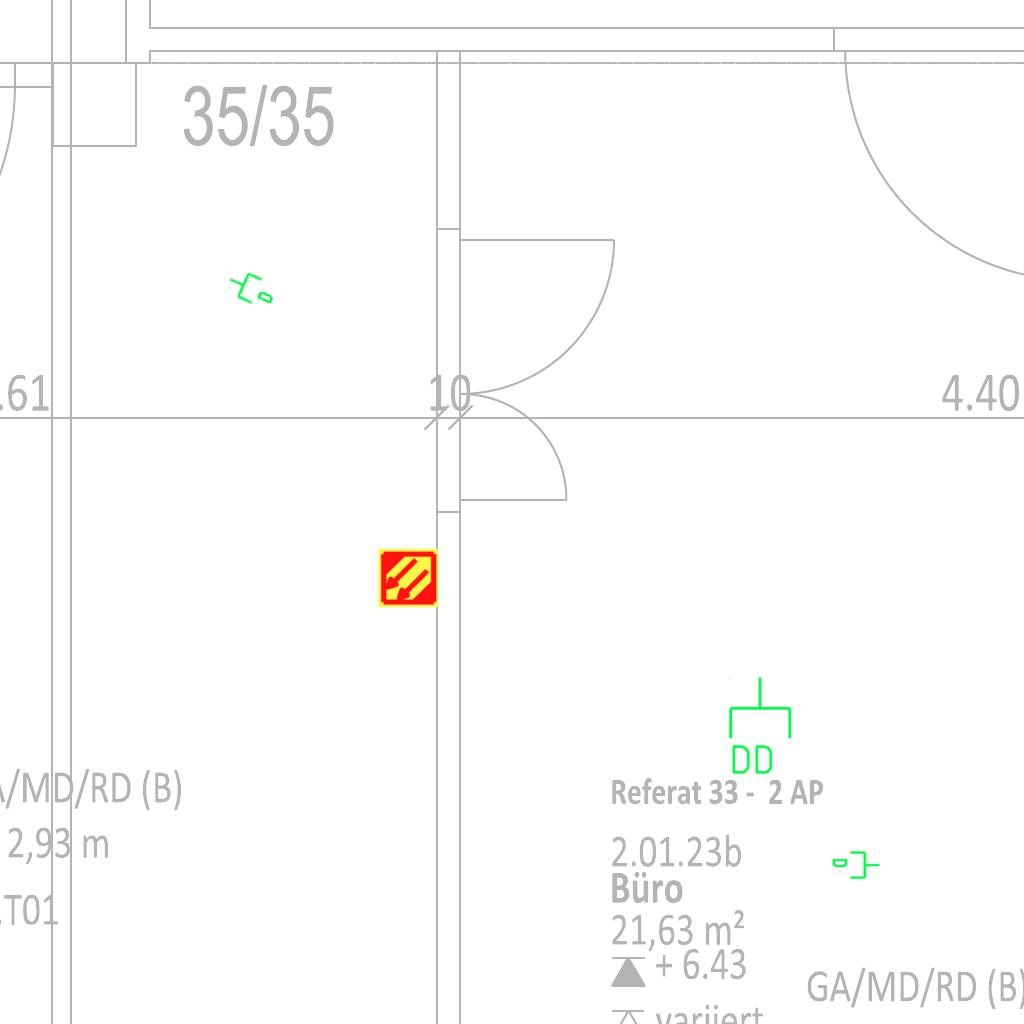ASR_Ansaugrauchmelder: (377, 547, 439, 609)
Datenanschluss_einfach: (222, 262, 282, 314), (831, 849, 881, 883)
Datenanschluss_zweifach: (725, 675, 794, 778)
